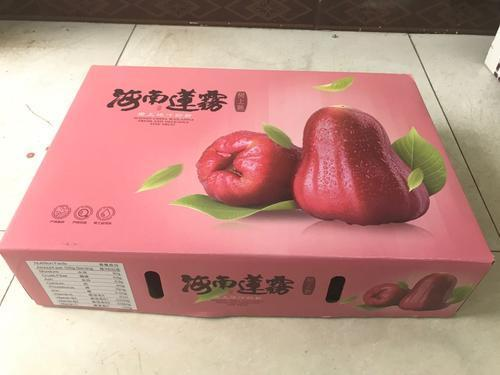cardboard: (0, 66, 492, 316)
